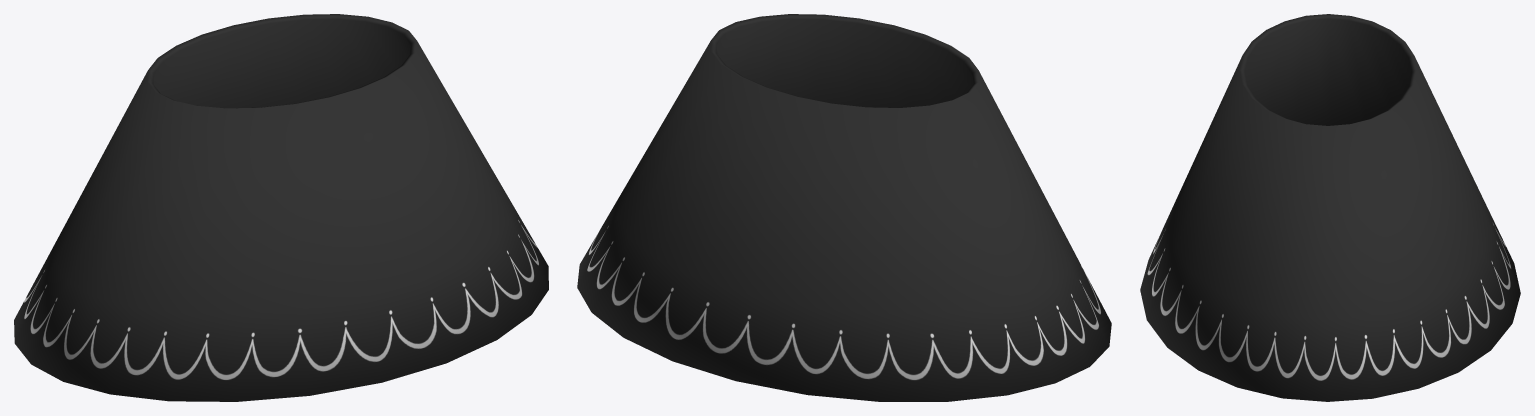
Rendered from doremy_dress_lower.glb.
3 renders of one model, left to right at view 1: azimuth 30°, elevation 25°; view 2: azimuth 150°, elevation 25°; view 3: azimuth 270°, elevation 25°, orthographic. The views are drawn at different scales.
Visible parts, largest first — view 1: doremy_dress_lower; view 2: doremy_dress_lower; view 3: doremy_dress_lower.
Part boxes in pixels (left/top/right/bottom): doremy_dress_lower: left=14, top=14, right=548, bottom=401; doremy_dress_lower: left=577, top=14, right=1111, bottom=401; doremy_dress_lower: left=1140, top=14, right=1520, bottom=401.
Bounding box in the file's own units: 1.68 × 0.7983 × 1.23.
Materials: 1 (1 with a texture image).
